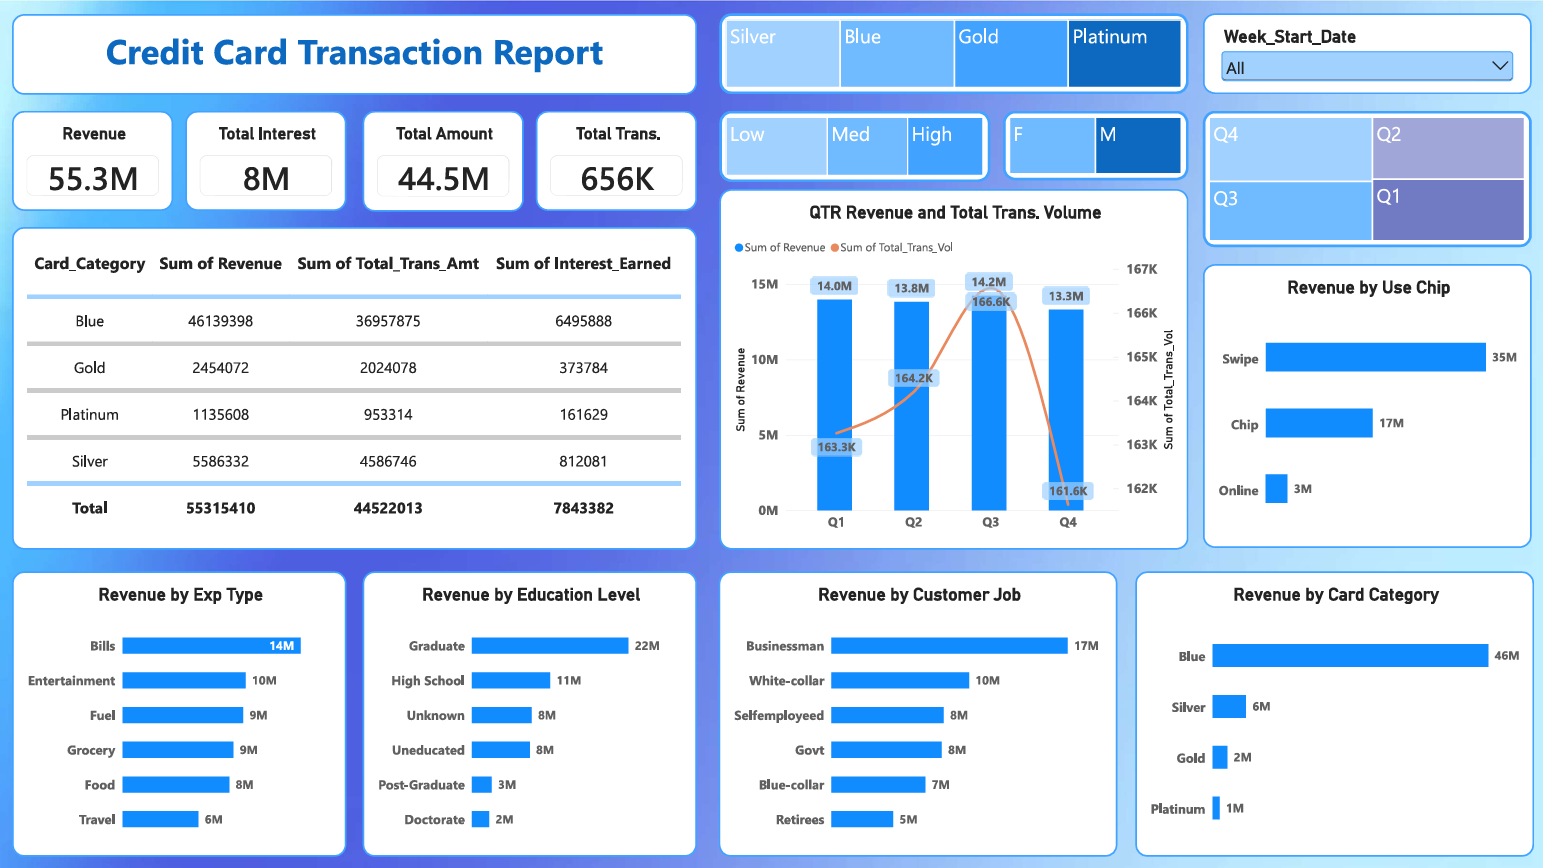

This screenshot's page, from the dashboard's own definition file:
{"tool":"powerbi","page":{"name":"CC Transaction","canvas":[1920,1080],"ordinal":1},"visuals":[{"type":"textbox","box":[17.1,17.1,850,100],"z":0},{"type":"lineStackedColumnComboChart","title":"QTR Revenue and Total Trans. Volume","fields":{"Category":["credit_card.Qtr"],"Y":["Sum(credit_card.Revenue)"],"Y2":["Sum(credit_card.Total_Trans_Vol)"]},"box":[894.7,234.1,581.8,447.4],"z":1000},{"type":"barChart","title":"Revenue by Exp Type","fields":{"Category":["credit_card.Exp Type"],"Y":["Sum(credit_card.Revenue)"]},"box":[17.1,708.1,415,354.1],"z":2000},{"type":"barChart","title":"Revenue by Education Level","fields":{"Category":["customer.Education_Level"],"Y":["Sum(credit_card.Revenue)"]},"box":[451.7,708.1,415,354.1],"z":3000},{"type":"barChart","title":"Revenue by Customer Job","fields":{"Category":["customer.Customer_Job"],"Y":["Sum(credit_card.Revenue)"]},"box":[893.7,708.1,495,354.1],"z":4000},{"type":"barChart","title":"Revenue by Card Category","fields":{"Category":["credit_card.Card_Category"],"Y":["Sum(credit_card.Revenue)"]},"box":[1411.3,708.1,495,354.1],"z":5000},{"type":"barChart","title":"Revenue by Use Chip","fields":{"Category":["credit_card.Use Chip"],"Y":["Sum(credit_card.Revenue)"]},"box":[1495.1,326.8,408,352.3],"z":6000},{"type":"tableEx","fields":{"Values":["credit_card.Card_Category","Sum(credit_card.Revenue)","Sum(credit_card.Total_Trans_Amt)","Sum(credit_card.Interest_Earned)"]},"box":[17.1,280.8,849.7,400.4],"z":7000},{"type":"cardVisual","title":"Revenue","fields":{"Data":["Sum(credit_card.Revenue)"]},"box":[17.1,136.7,200,124.5],"z":8000},{"type":"cardVisual","title":"Total Trans.","fields":{"Data":["Sum(credit_card.Total_Trans_Vol)"]},"box":[666.6,136.7,200,124.5],"z":9000},{"type":"cardVisual","title":"Total Interest","fields":{"Data":["Sum(credit_card.Interest_Earned)"]},"box":[232,136.7,200.2,124.5],"z":10000},{"type":"cardVisual","title":"Total Amount","fields":{"Data":["Sum(credit_card.Total_Trans_Amt)"]},"box":[451.7,136.7,200,125],"z":11000},{"type":"slicer","fields":{"Values":["credit_card.Week_Start_Date"]},"box":[1495.1,16.2,408,99.7],"z":12000},{"type":"treemap","fields":{"Group":["credit_card.Qtr"],"Values":["Avg(credit_card.Client_Num)"]},"box":[1495.1,136.8,408,169.2],"z":13000},{"type":"treemap","fields":{"Group":["customer.Gender"],"Values":["Avg(credit_card.Client_Num)"]},"box":[1247,136.8,229.5,85.8],"z":14000},{"type":"treemap","fields":{"Group":["credit_card.Card_Category"],"Values":["Avg(credit_card.Client_Num)"]},"box":[894.7,16.2,581.8,99.7],"z":15000},{"type":"treemap","fields":{"Group":["customer.Income_group"],"Values":["Sum(credit_card.Client_Num)"]},"box":[894.7,136.8,336.1,88.1],"z":16000}]}

Visuals, with their boxes in screenshot pixels (x1, y1, x2, y2), scaled from the page's 1920x1080 canvas onto the 1543x868 screenshot:
textbox: [left=14, top=14, right=697, bottom=94]
"QTR Revenue and Total Trans. Volume" lineStackedColumnComboChart: [left=719, top=188, right=1187, bottom=548]
"Revenue by Exp Type" barChart: [left=14, top=569, right=347, bottom=854]
"Revenue by Education Level" barChart: [left=363, top=569, right=697, bottom=854]
"Revenue by Customer Job" barChart: [left=718, top=569, right=1116, bottom=854]
"Revenue by Card Category" barChart: [left=1134, top=569, right=1532, bottom=854]
"Revenue by Use Chip" barChart: [left=1202, top=263, right=1529, bottom=546]
tableEx - credit_card.Card_Category x Sum(credit_card.Revenue): [left=14, top=226, right=697, bottom=547]
"Revenue" cardVisual: [left=14, top=110, right=174, bottom=210]
"Total Trans." cardVisual: [left=536, top=110, right=696, bottom=210]
"Total Interest" cardVisual: [left=186, top=110, right=347, bottom=210]
"Total Amount" cardVisual: [left=363, top=110, right=524, bottom=210]
slicer - credit_card.Week_Start_Date: [left=1202, top=13, right=1529, bottom=93]
treemap - credit_card.Qtr x Avg(credit_card.Client_Num): [left=1202, top=110, right=1529, bottom=246]
treemap - customer.Gender x Avg(credit_card.Client_Num): [left=1002, top=110, right=1187, bottom=179]
treemap - credit_card.Card_Category x Avg(credit_card.Client_Num): [left=719, top=13, right=1187, bottom=93]
treemap - customer.Income_group x Sum(credit_card.Client_Num): [left=719, top=110, right=989, bottom=181]
